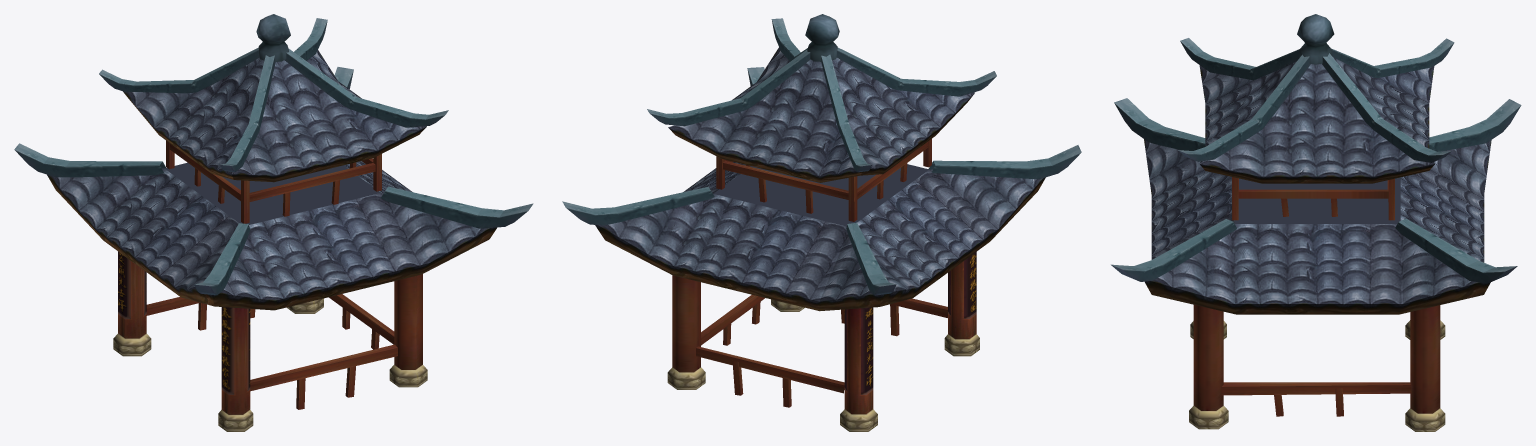
File: szc_building_16a_ding.FBX
The picture shows the model from 3 angles, left to right: view 1: azimuth 30°, elevation 25°; view 2: azimuth 150°, elevation 25°; view 3: azimuth 270°, elevation 25°; orthographic projection. The views are drawn at different scales.
Visible parts, largest first — view 1: szc_building_16a_ding; view 2: szc_building_16a_ding; view 3: szc_building_16a_ding.
Part boxes in pixels (left/top/right/bottom): szc_building_16a_ding: left=14, top=14, right=533, bottom=431; szc_building_16a_ding: left=562, top=14, right=1081, bottom=431; szc_building_16a_ding: left=1111, top=14, right=1521, bottom=431.
Size of the model in its own units: 435 by 431 by 435.
